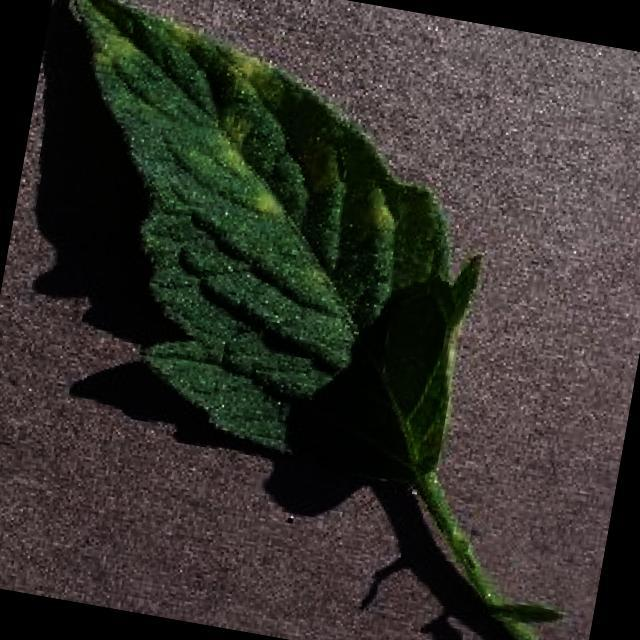Tomato mold leaf: (0, 0, 520, 495)
